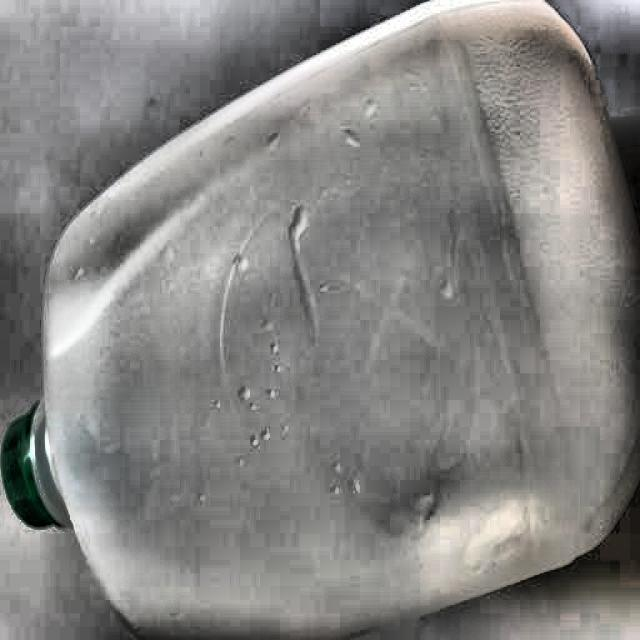plastic: (0, 12, 625, 600)
